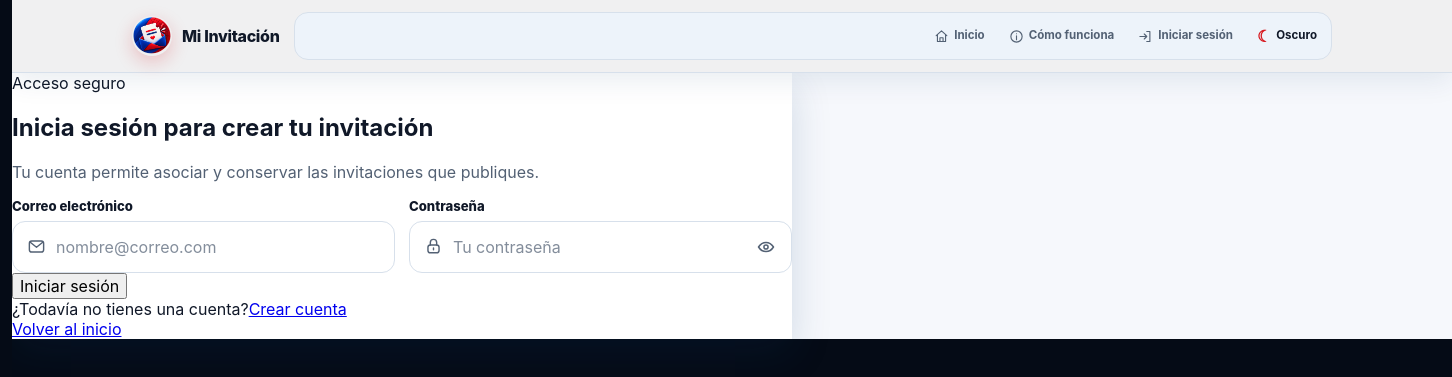
it: LoginPage › shows invalid credentials without losing entered email
Type "user@example.com" into the field labelled "Correo electrónico".
click(220, 247); type("user@example.com")  # box x1=46 y1=222 x2=394 y2=272
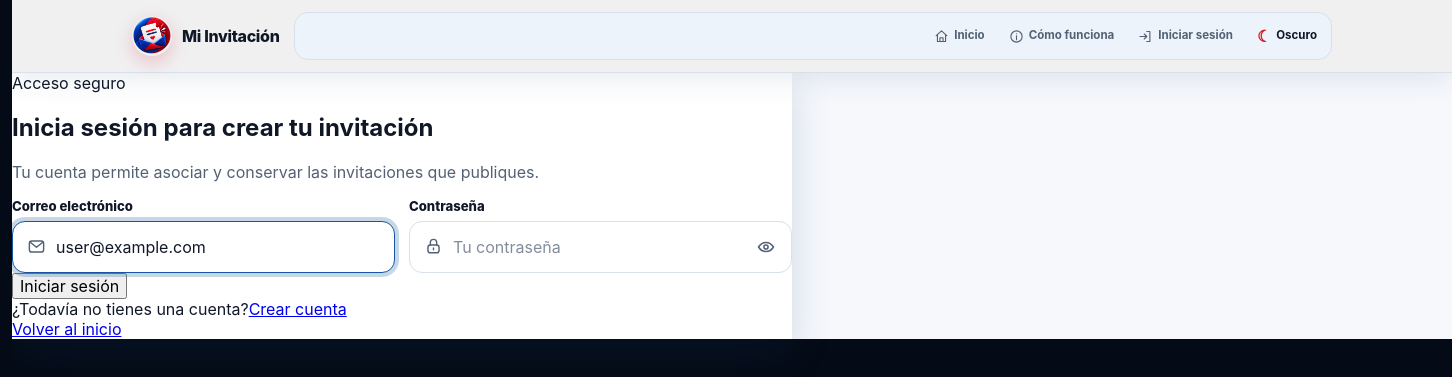
Type "wrong" into the password field labelled "Contraseña".
click(595, 247); type("wrong")  # box x1=443 y1=222 x2=747 y2=272
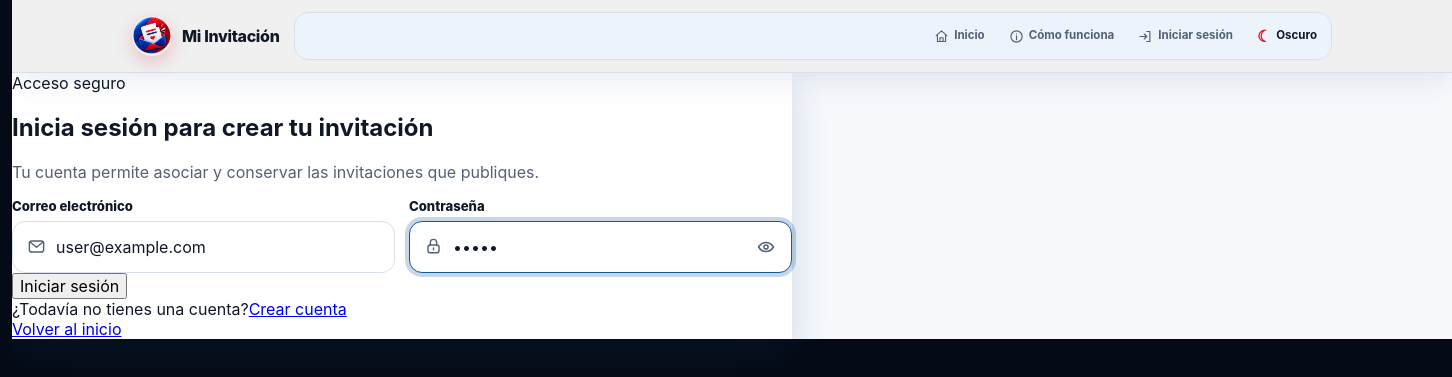
Click the button "Iniciar sesión".
click(70, 286)  # box x1=12 y1=273 x2=127 y2=299
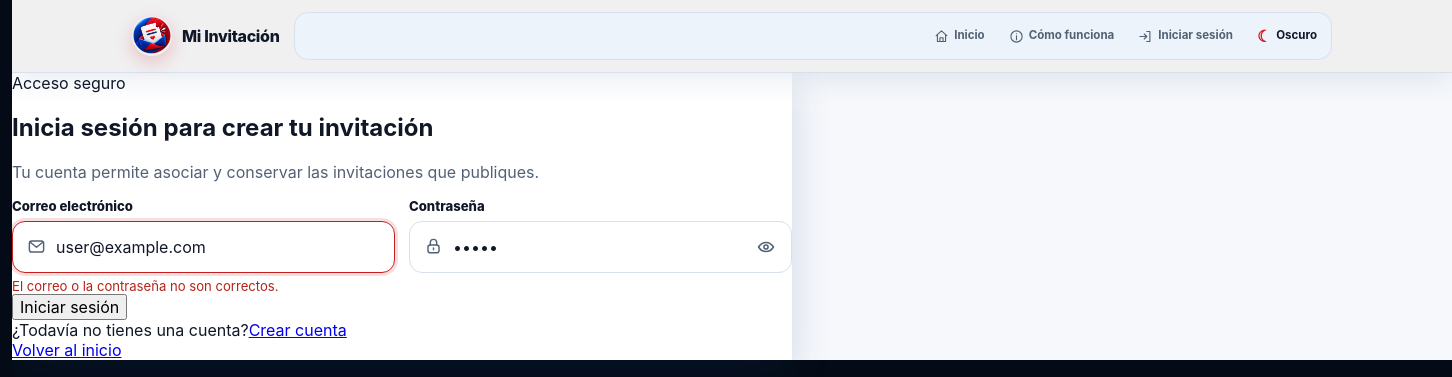
Now the message reads "El correo o la contraseña no son correctos.", box x1=12 y1=278 x2=278 y2=294
